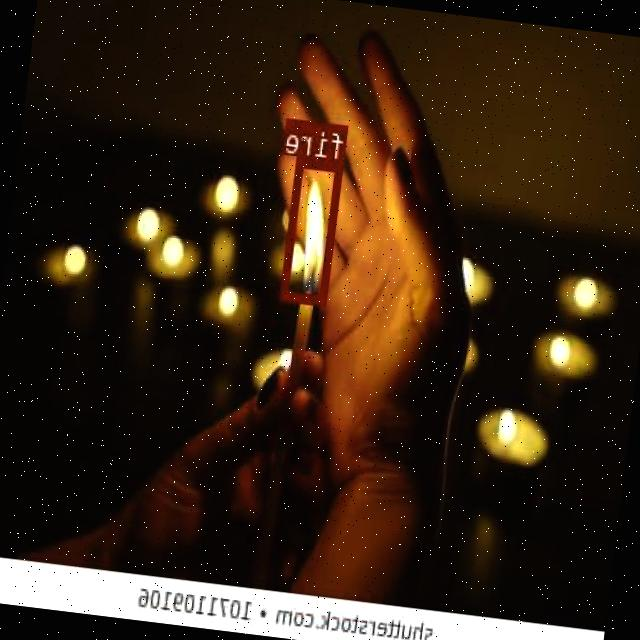fire: (281, 156, 344, 304)
